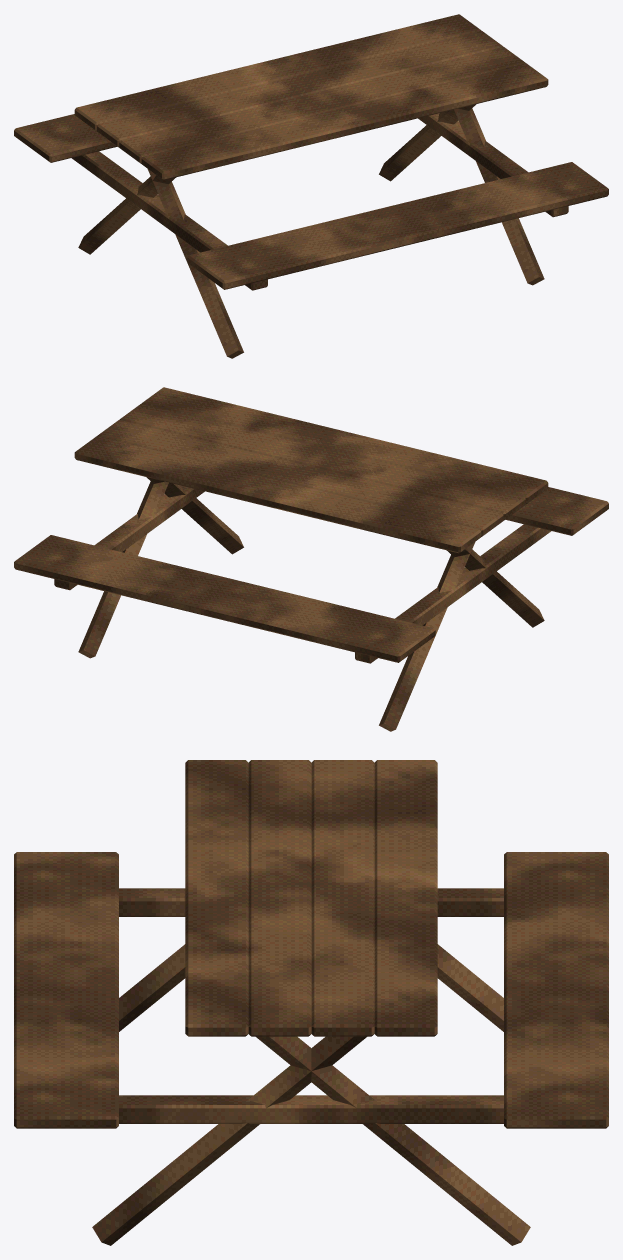
Rendered from ext_picnic_table.glb.
3 renders of one model, top to bottom at view 1: azimuth 30°, elevation 25°; view 2: azimuth 150°, elevation 25°; view 3: azimuth 270°, elevation 25°, orthographic. The views are drawn at different scales.
Visible parts, largest first — view 1: ext_picnic_table_mesh; view 2: ext_picnic_table_mesh; view 3: ext_picnic_table_mesh.
Boxes of the visible parts, left/top/right/bottom form: ext_picnic_table_mesh: left=14, top=14, right=608, bottom=358; ext_picnic_table_mesh: left=14, top=387, right=608, bottom=731; ext_picnic_table_mesh: left=14, top=760, right=608, bottom=1245.
Size of what is drawn, in the model's own units: 1.8 by 0.7897 by 1.7.
Materials: 1 (1 with a texture image).
